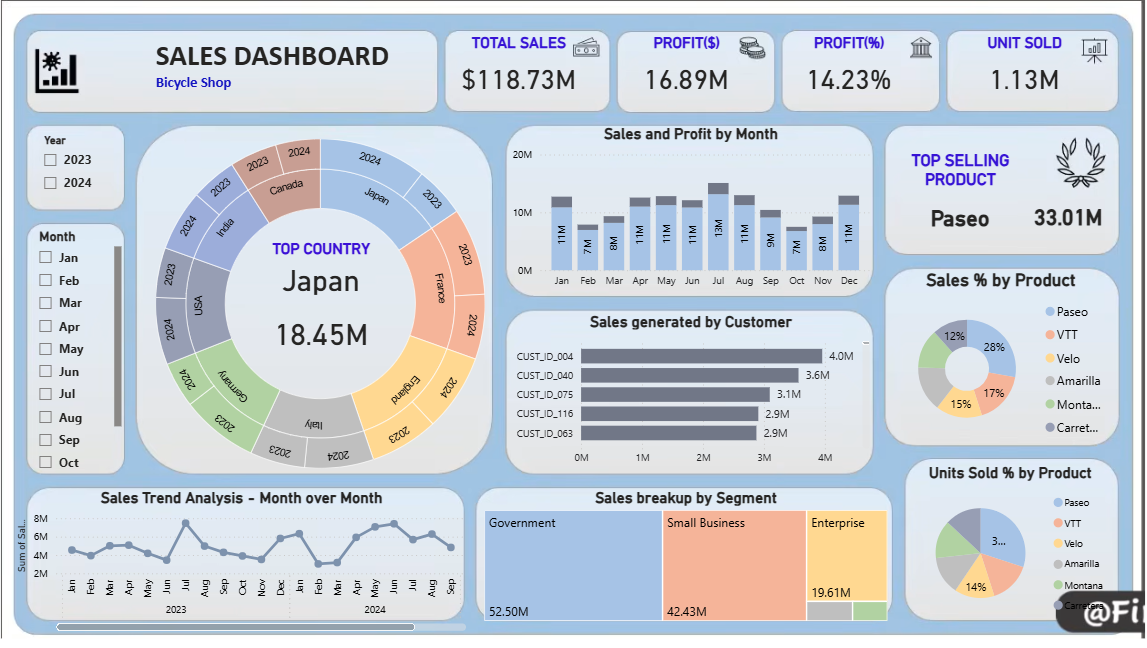

This screenshot's page, from the dashboard's own definition file:
{"tool":"powerbi","page":{"name":"Page 1","canvas":[1280,720],"ordinal":0},"visuals":[{"type":"card","title":"TOTAL SALES","fields":{"Values":["Sum(Sales Data (2).Sales)"]},"box":[501.9,45.8,156.8,77.2],"z":0},{"type":"card","title":"PROFIT($)","fields":{"Values":["Sum(Sales Data (2).Profit)"]},"box":[686.5,45.8,156.8,77.2],"z":1000},{"type":"card","title":"PROFIT(%)","fields":{"Values":["Sales Data (2).PROFIT(%)"]},"box":[865,45.8,156.8,77.2],"z":2000},{"type":"card","title":"UNIT SOLD","fields":{"Values":["Sum(Sales Data (2).Units Sold)"]},"box":[1058,45.8,155.6,77.2],"z":3000},{"type":"card","title":"TOP SELLING PRODUCT","fields":{"Values":["Min(Sales Data (2).Product_Name)"]},"box":[992.9,173.7,143.6,106.2],"z":4000},{"type":"card","title":"TOP SELLING PRODUCT","fields":{"Values":["Sum(Sales Data (2).Sales)"]},"box":[1130.4,218.4,106.2,56.7],"z":5000},{"type":"donutChart","title":" Sales % by Product","fields":{"Category":["Sales Data (2).Product_Name"],"Y":["Sum(Sales Data (2).Sales)"]},"box":[982,304,254.6,196.6],"z":6000},{"type":"pieChart","title":" Units Sold % by Product","fields":{"Category":["Sales Data (2).Product_Name"],"Y":["Sum(Sales Data (2).Units Sold)"]},"box":[1002.6,517.6,234,178.6],"z":7000},{"type":"treemap","title":"Sales breakup by Segment","fields":{"Group":["Sales Data (2).Segment"],"Values":["Sum(Sales Data (2).Sales)"]},"box":[538.1,545.3,452.4,150.8],"z":8000},{"type":"lineChart","title":"Sales Trend Analysis - Month over Month","fields":{"Y":["Sum(Sales Data (2).Sales)"],"Category":["Sales Data (2).Date.Variation.Date Hierarchy.Year","Sales Data (2).Month Name"]},"box":[24.1,545.3,503.1,161.7],"z":9000},{"type":"slicer","fields":{"Values":["Sales Data (2).Year"]},"box":[47.1,150.8,102.5,88.1],"z":10000},{"type":"slicer","fields":{"Values":["Sales Data (2).Month Name"]},"box":[41,255.8,108.6,272.7],"z":11000},{"type":"textbox","box":[177.3,45.8,285.9,77.2],"z":13000},{"type":"clusteredBarChart","title":" Sales generated  by Customer","fields":{"Category":["Sales Data (2).Customer_ID"],"Y":["Sum(Sales Data (2).Sales)"]},"box":[568.2,351.1,403,177.3],"z":14000},{"type":"columnChart","title":" Sales and  Profit by Month ","fields":{"Category":["Sales Data (2).Month Name"],"Y":["Sum(Sales Data (2).Sales)","Sum(Sales Data (2).Profit)"]},"box":[568.2,144.8,403,188.2],"z":15000},{"type":"Sunburst1445472000808","fields":{"Nodes":["Sales Data (2).Country","Sales Data (2).Year"],"Values":["Sum(Sales Data (2).Sales)"]},"box":[177.3,156.8,371.6,371.6],"z":15001},{"type":"card","title":"TOP COUNTRY","fields":{"Values":["Min(Sales Data (2).Country)"]},"box":[293.7,271.7,140,65.9],"z":15002},{"type":"card","title":"TOP COUNTRY","fields":{"Values":["Sum(Sales Data (2).Sales)"]},"box":[301.9,333.4,123.5,81],"z":15003}]}

Visuals, with their boxes in screenshot pixels (x1, y1, x2, y2), scaled from the page's 1280x720 canvas onto the 1147x648 screenshot:
"TOTAL SALES" card: 450 41 590 111
"PROFIT($)" card: 615 41 756 111
"PROFIT(%)" card: 775 41 916 111
"UNIT SOLD" card: 948 41 1087 111
"TOP SELLING PRODUCT" card: 890 156 1018 252
"TOP SELLING PRODUCT" card: 1013 197 1108 248
" Sales % by Product" donutChart: 880 274 1108 451
" Units Sold % by Product" pieChart: 898 466 1108 627
"Sales breakup by Segment" treemap: 482 491 888 626
"Sales Trend Analysis - Month over Month" lineChart: 22 491 472 636
slicer - Sales Data (2).Year: 42 136 134 215
slicer - Sales Data (2).Month Name: 37 230 134 476
textbox: 159 41 415 111
" Sales generated  by Customer" clusteredBarChart: 509 316 870 476
" Sales and  Profit by Month " columnChart: 509 130 870 300
Sunburst1445472000808 - Sales Data (2).Country x Sales Data (2).Year: 159 141 492 476
"TOP COUNTRY" card: 263 245 389 304
"TOP COUNTRY" card: 271 300 381 373
